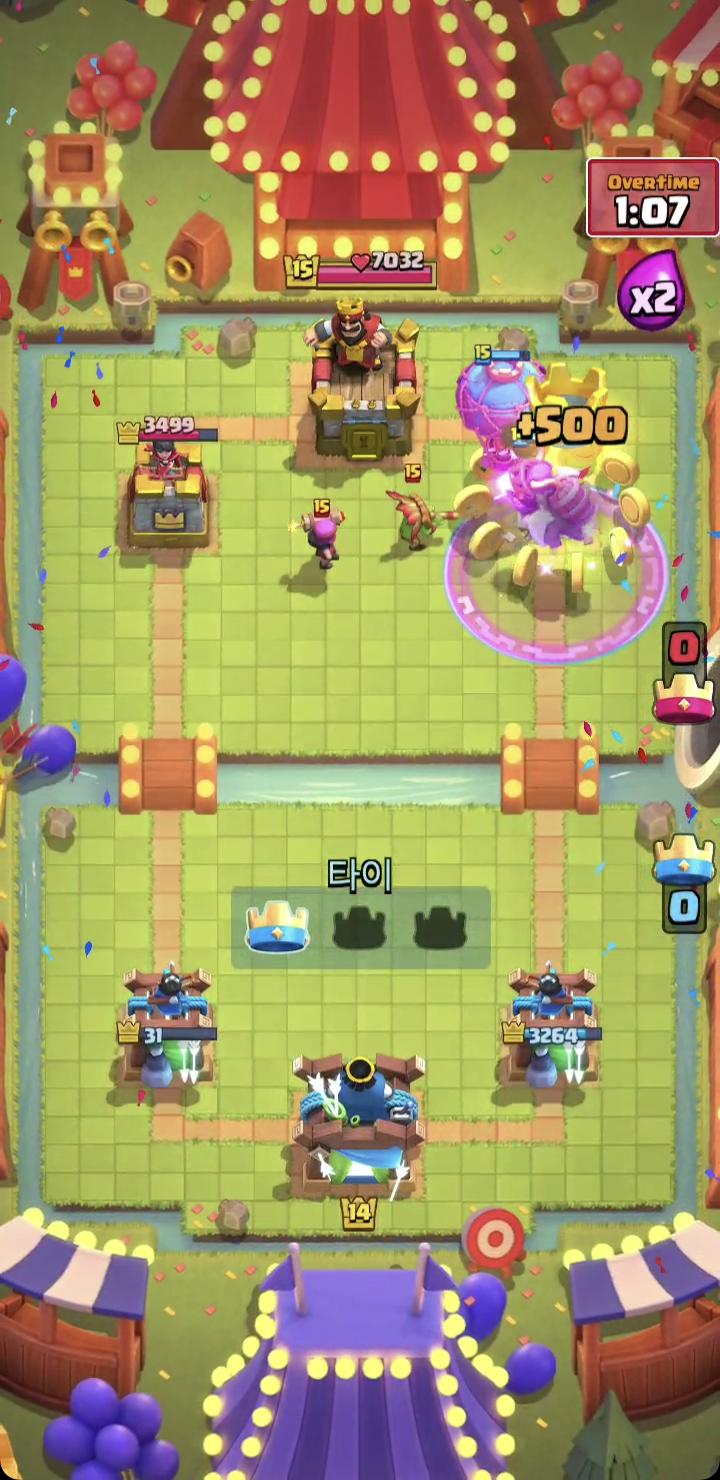ally_balloon: (453, 343, 559, 475)
ally_infernodragon: (503, 438, 604, 548)
enemy_dart_goblin: (386, 458, 462, 553)
enemy_firecracker: (285, 497, 349, 570)
